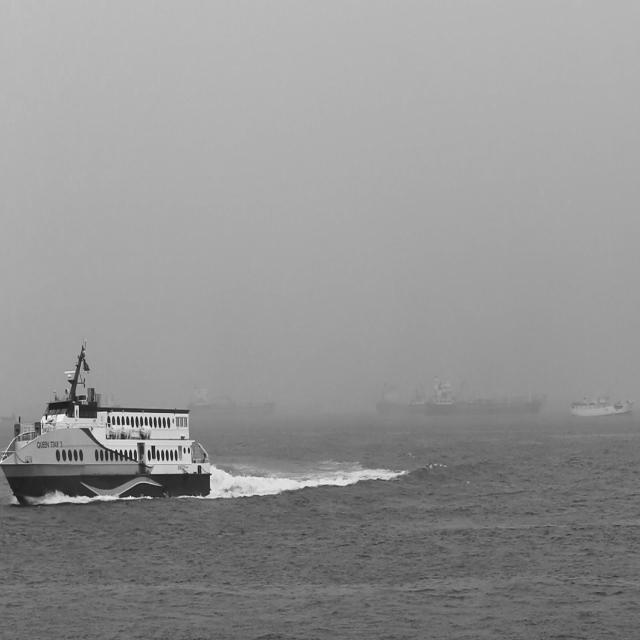ship: (0, 347, 214, 508), (432, 378, 546, 417), (190, 382, 279, 414), (568, 391, 635, 419), (368, 385, 413, 417), (414, 392, 430, 416), (0, 409, 16, 423)
